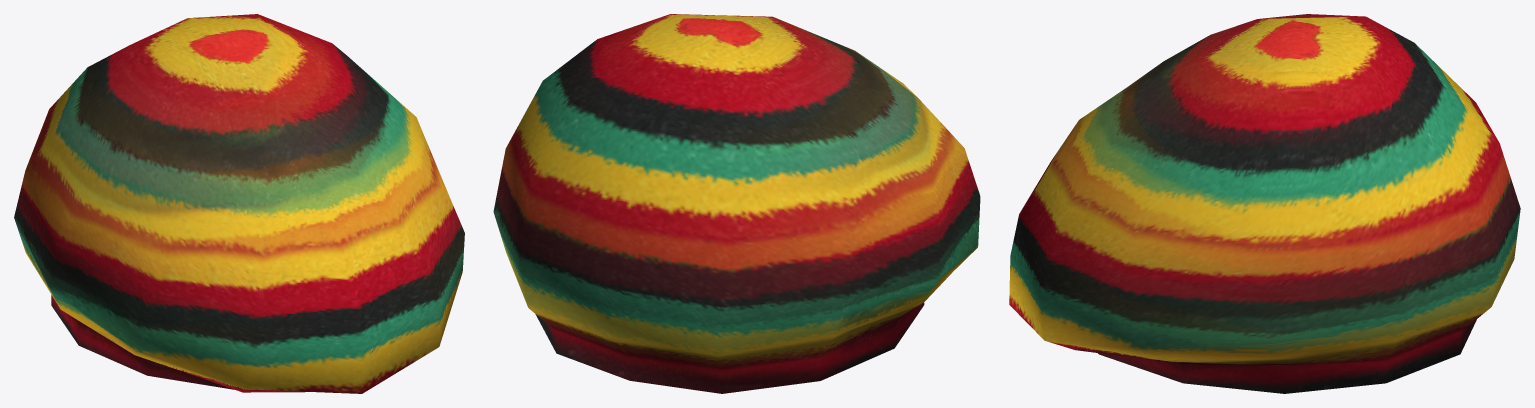
The model's file is RastaHat.FBX.
3 views of the same model, side by side, from view 1: azimuth 30°, elevation 25°; view 2: azimuth 150°, elevation 25°; view 3: azimuth 270°, elevation 25° (orthographic). The views are drawn at different scales.
Visible parts, largest first — view 1: Tube001; view 2: Tube001; view 3: Tube001.
Boxes of the visible parts, x1,y1,x2,y2 form: Tube001: [14, 14, 464, 393]; Tube001: [493, 14, 980, 393]; Tube001: [1009, 14, 1520, 393].
Bounding box in the file's own units: 160 × 108 × 178.
